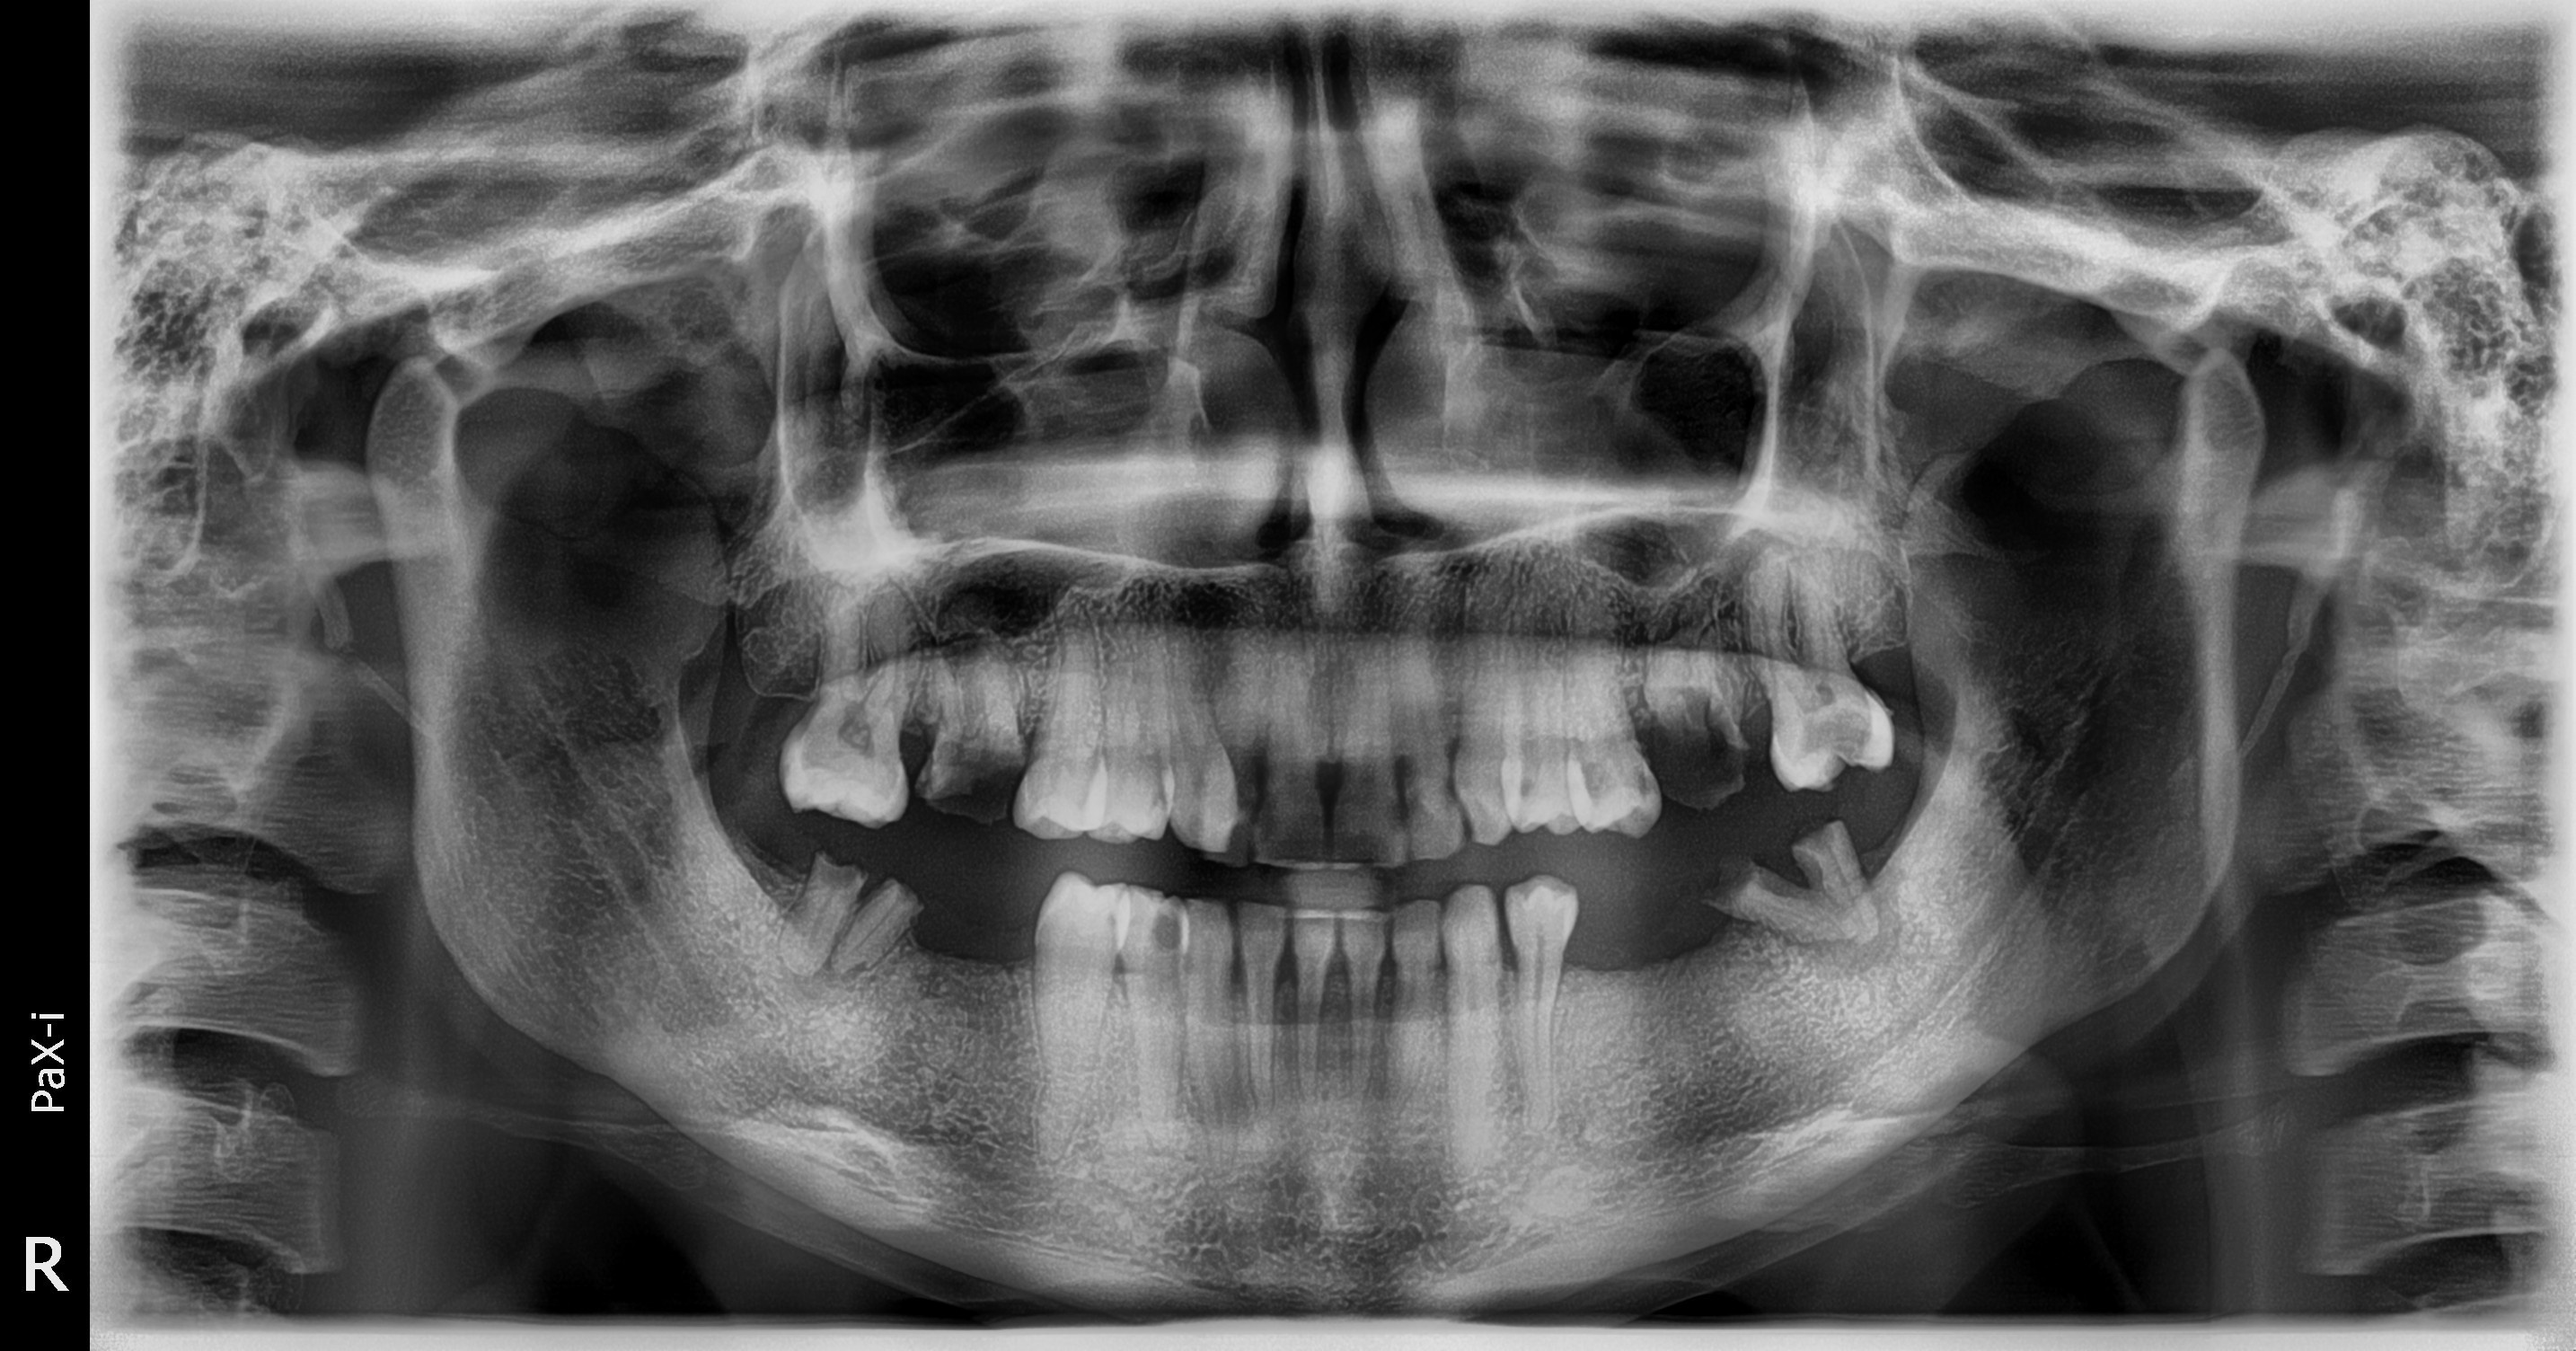API: (831, 382, 2576, 1351)
CAR: (419, 329, 1446, 1148)
ROT: (852, 346, 2576, 1288)
